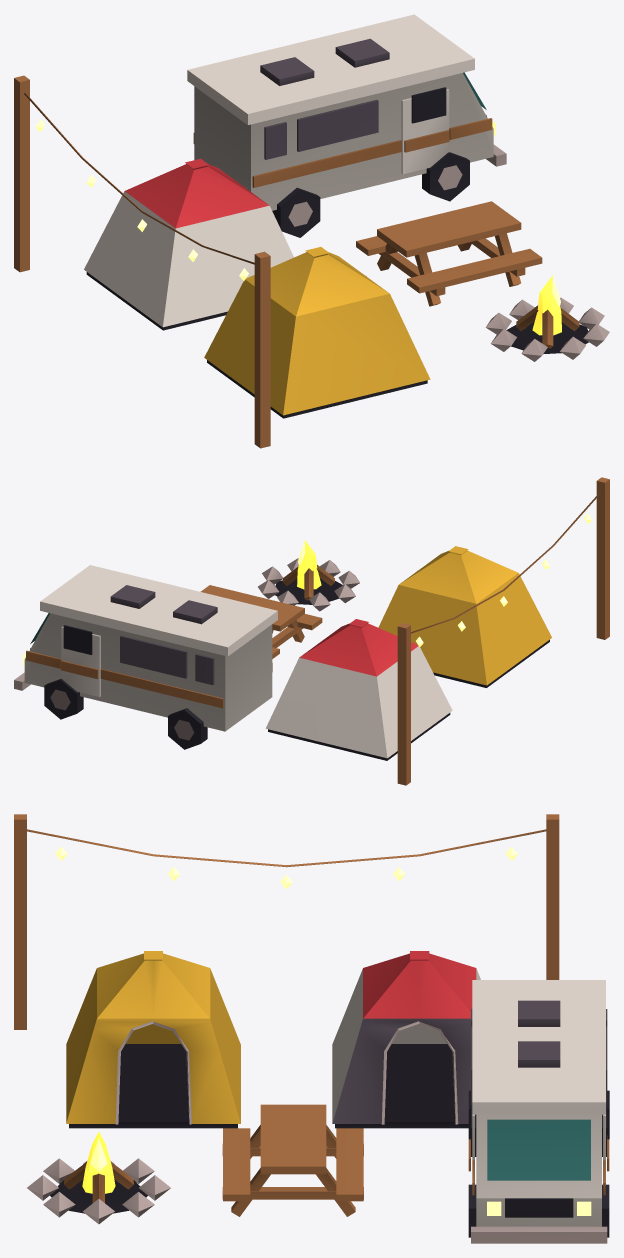
The picture shows the model from 3 angles, top to bottom: view 1: azimuth 30°, elevation 25°; view 2: azimuth 150°, elevation 25°; view 3: azimuth 270°, elevation 25°; orthographic projection. The views are drawn at different scales.
Visible parts, largest first — view 1: static_pal_picketWhite, static_pal_schoolBusYellow, static_pal_woodWarm, static_pal_asphalt, static_pal_survivorRed, static_pal_sidewalk, static_pal_uiDark, door_R_pal_picketWhite, wheelRR_pal_uiDark, wheelFR_pal_uiDark, door_R_pal_uiDark, campfire_flames_emi_schoolBusYellow (+1 smaller); view 2: static_pal_picketWhite, static_pal_schoolBusYellow, static_pal_woodWarm, static_pal_asphalt, static_pal_survivorRed, static_pal_sidewalk, static_pal_uiDark, door_L_pal_picketWhite, wheelRL_pal_uiDark, wheelFL_pal_uiDark, door_L_pal_uiDark, campfire_flames_emi_schoolBusYellow; view 3: static_pal_picketWhite, static_pal_schoolBusYellow, static_pal_woodWarm, static_pal_uiDark, static_pal_asphalt, static_pal_sidewalk, static_pal_survivorRed, static_pal_backpackTeal, campfire_flames_emi_schoolBusYellow.
Part boxes in pixels (x1,y1,x2,y2): static_pal_picketWhite: (84, 14, 493, 327); static_pal_schoolBusYellow: (204, 247, 430, 415); static_pal_woodWarm: (14, 75, 579, 448); static_pal_asphalt: (260, 38, 389, 159); static_pal_survivorRed: (125, 158, 269, 228); static_pal_sidewalk: (245, 144, 609, 361); static_pal_uiDark: (86, 115, 588, 418); door_R_pal_picketWhite: (401, 89, 449, 174); wheelRR_pal_uiDark: (272, 187, 320, 237); wheelFR_pal_uiDark: (422, 152, 469, 201); door_R_pal_uiDark: (411, 87, 446, 123); campfire_flames_emi_schoolBusYellow: (532, 275, 561, 335); static_pal_picketWhite: (24, 565, 452, 758); static_pal_schoolBusYellow: (378, 546, 551, 685); static_pal_woodWarm: (26, 477, 609, 785); static_pal_asphalt: (110, 585, 217, 685); static_pal_survivorRed: (299, 619, 418, 676); static_pal_sidewalk: (14, 558, 417, 690); static_pal_uiDark: (30, 578, 549, 760); door_L_pal_picketWhite: (61, 626, 100, 696); wheelRL_pal_uiDark: (168, 708, 207, 749); wheelFL_pal_uiDark: (44, 679, 83, 719); door_L_pal_uiDark: (63, 625, 92, 654); campfire_flames_emi_schoolBusYellow: (297, 540, 321, 589); static_pal_picketWhite: (332, 968, 605, 1226); static_pal_schoolBusYellow: (66, 951, 240, 1123); static_pal_woodWarm: (14, 814, 605, 1216); static_pal_uiDark: (50, 1044, 573, 1217); static_pal_asphalt: (332, 1000, 607, 1123); static_pal_sidewalk: (27, 1021, 607, 1243); static_pal_survivorRed: (363, 951, 476, 1018); static_pal_backpackTeal: (487, 1119, 590, 1180); campfire_flames_emi_schoolBusYellow: (82, 1132, 115, 1193).
Bounding box in the file's own units: 8.47 × 3.41 × 8.73.
